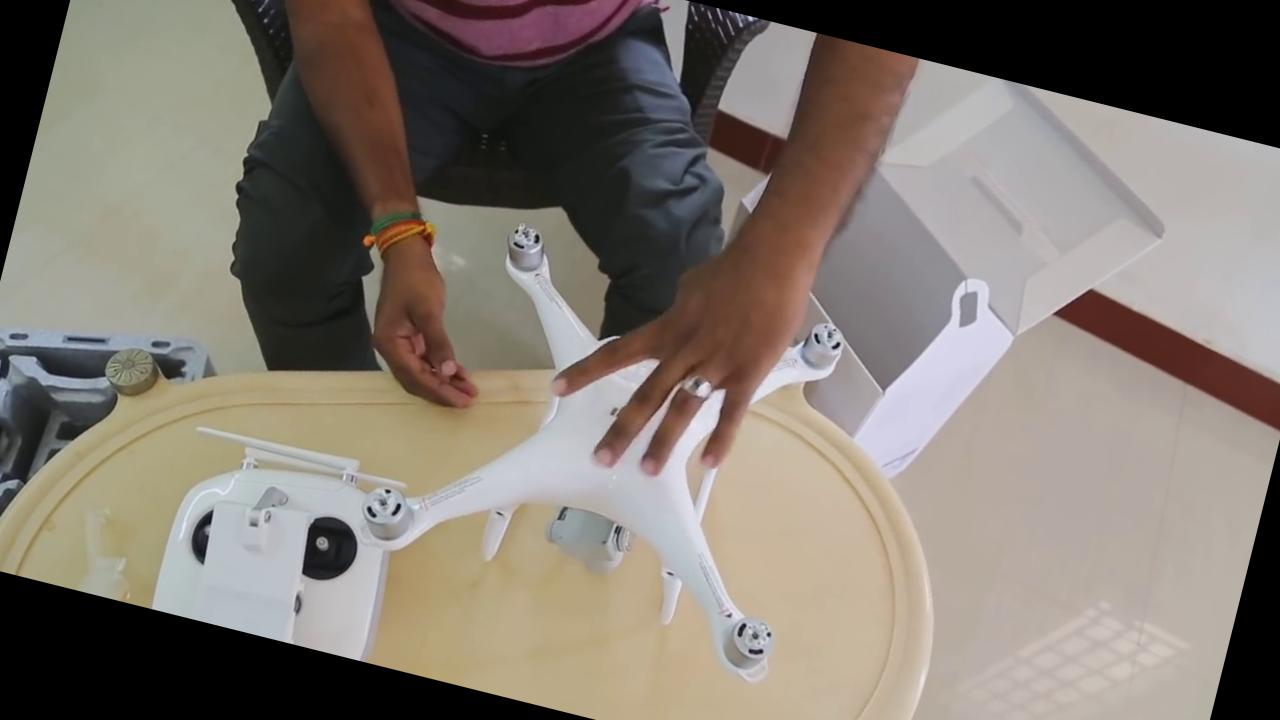drone: (336, 183, 882, 692)
